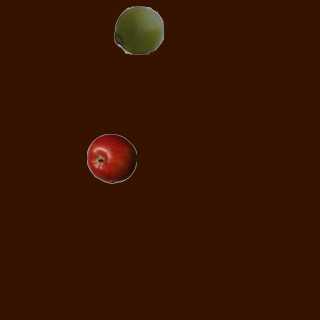Apple Braeburn: (86, 133, 136, 183)
Grape White 4: (113, 4, 163, 54)
